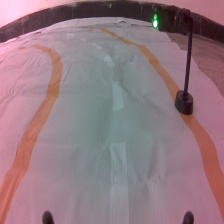green: (151, 3, 196, 116)
